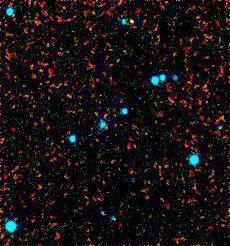star: (121, 3, 151, 33)
